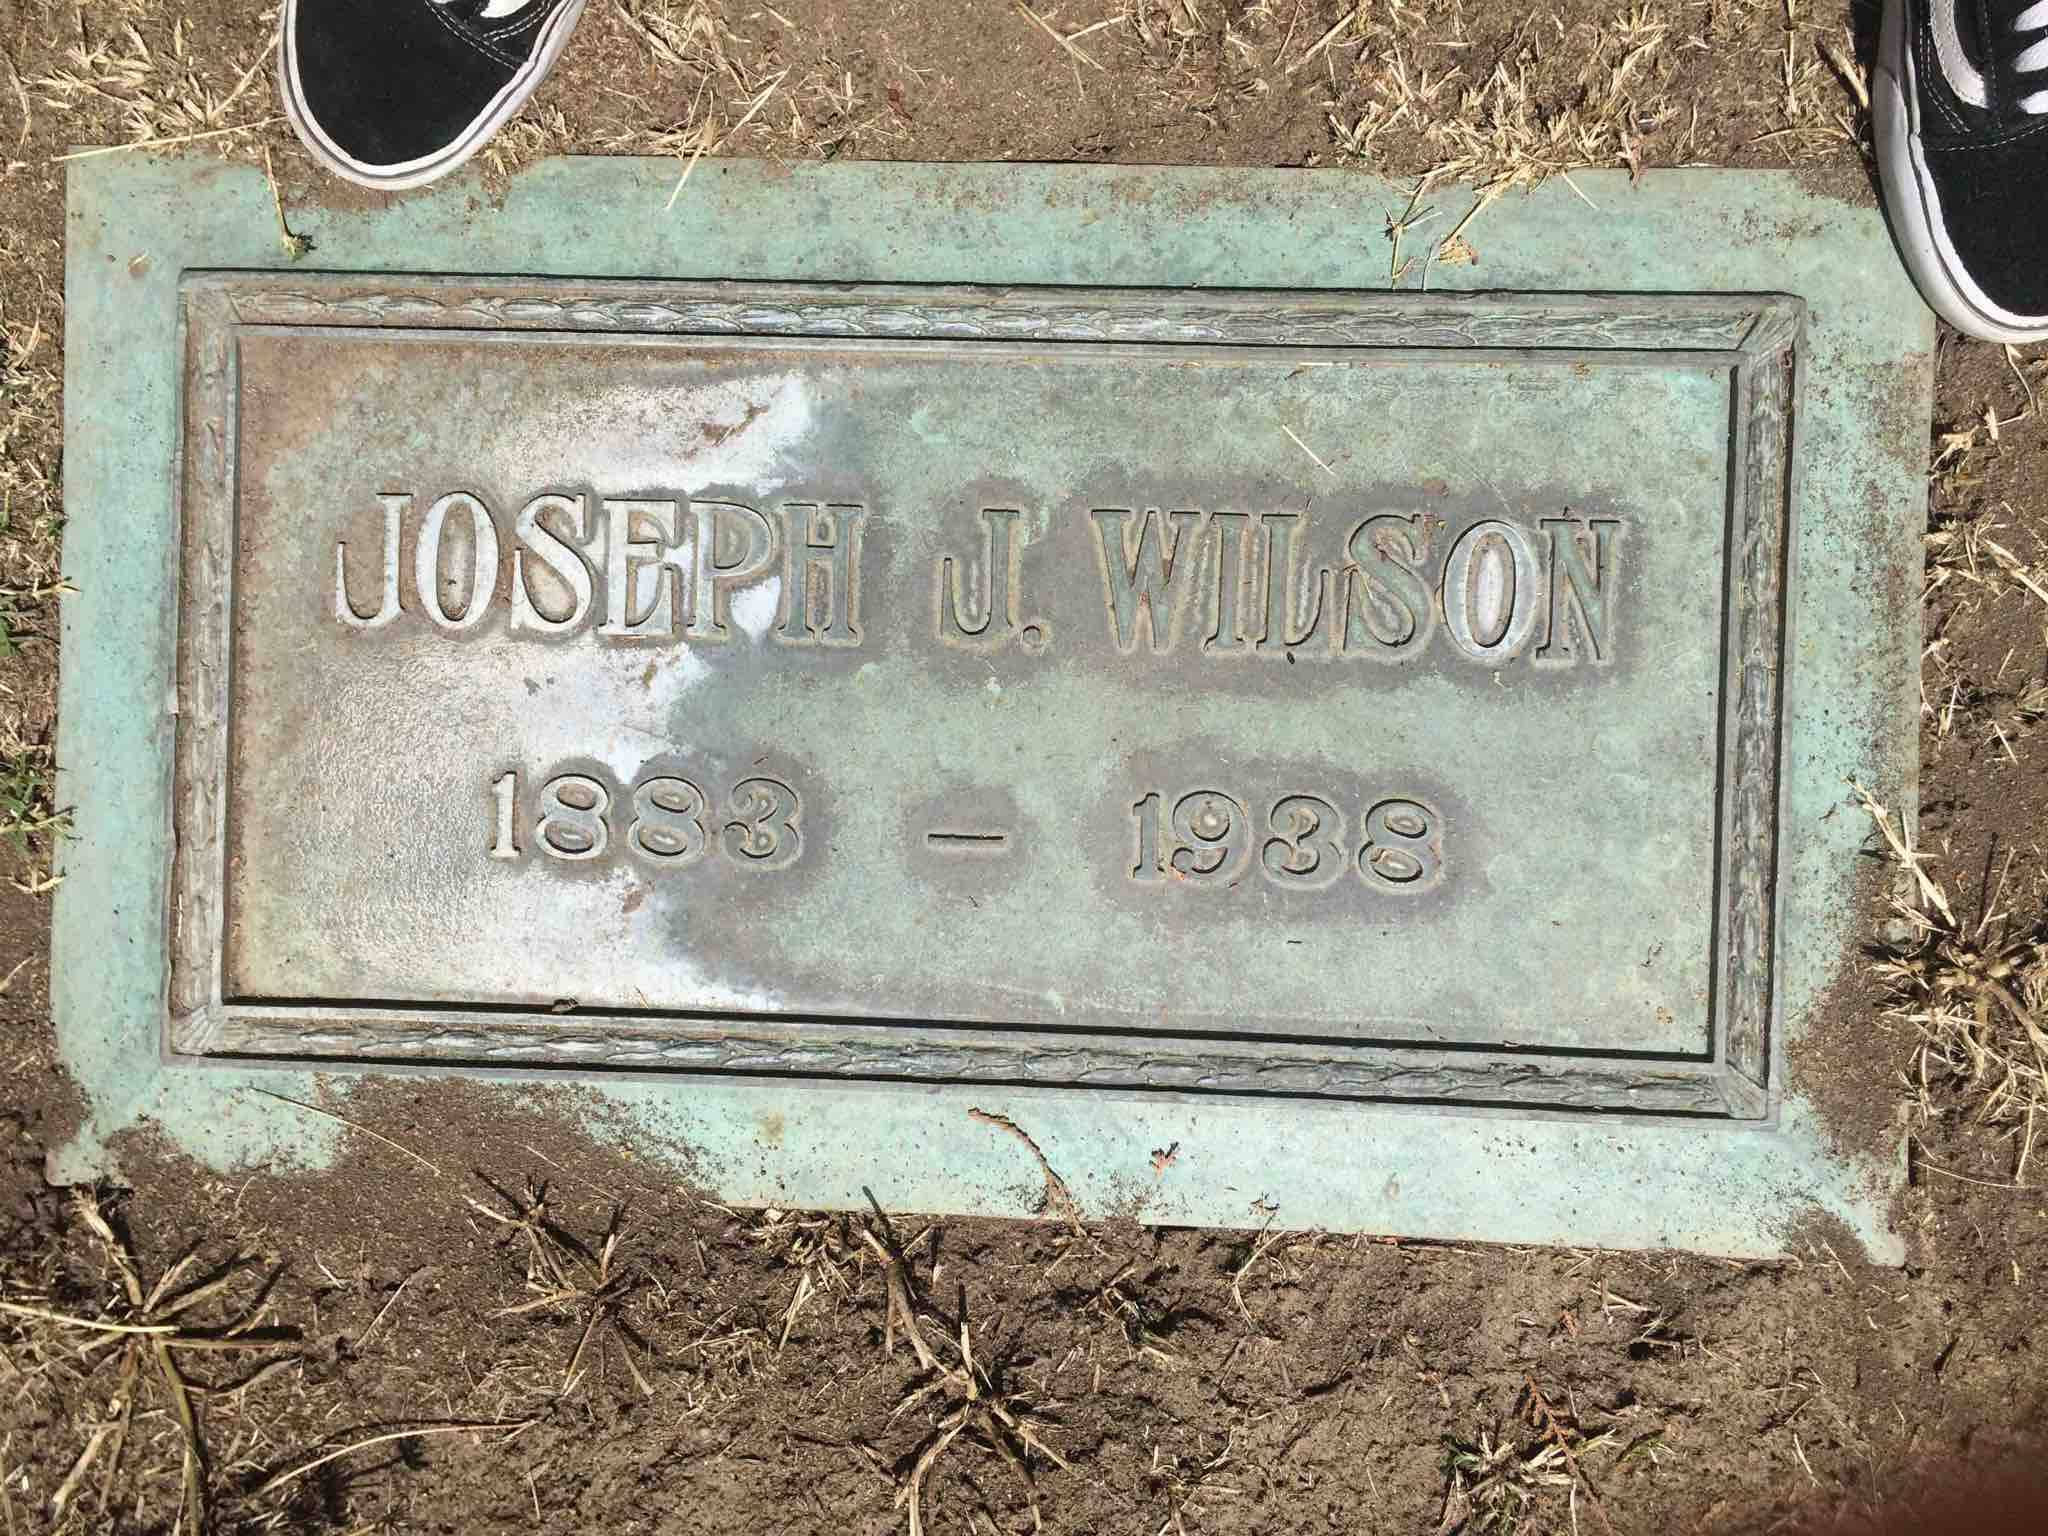flat: (79, 142, 1937, 1291)
